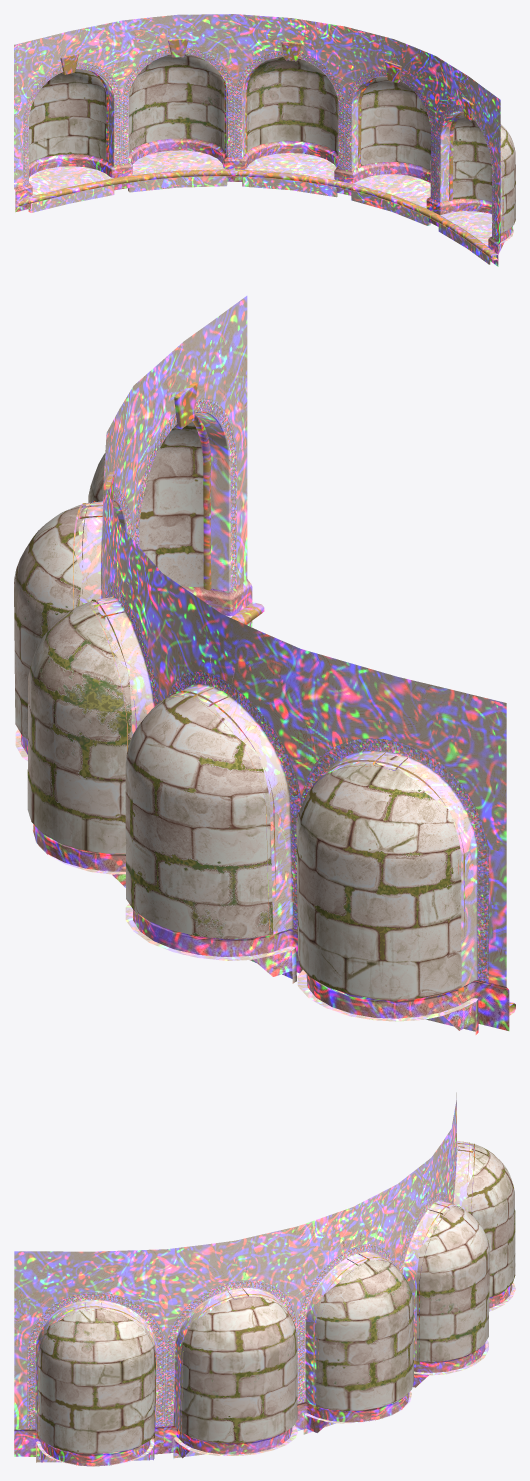
File: alcove_corner_small_inverse_SM.fbx
3 renders of one model, top to bottom at view 1: azimuth 30°, elevation 25°; view 2: azimuth 150°, elevation 25°; view 3: azimuth 270°, elevation 25°, orthographic. The views are drawn at different scales.
Visible parts, largest first — view 1: alcove_corner_small_inverse_SM_LOD0; view 2: alcove_corner_small_inverse_SM_LOD0; view 3: alcove_corner_small_inverse_SM_LOD0.
Part boxes in pixels (x1,y1,x2,y2): alcove_corner_small_inverse_SM_LOD0: (14, 14, 515, 266); alcove_corner_small_inverse_SM_LOD0: (14, 296, 515, 1034); alcove_corner_small_inverse_SM_LOD0: (14, 1092, 515, 1466).
Bounding box in the file's own units: 1195 × 1197 × 559.
5 materials, 5 textured.
